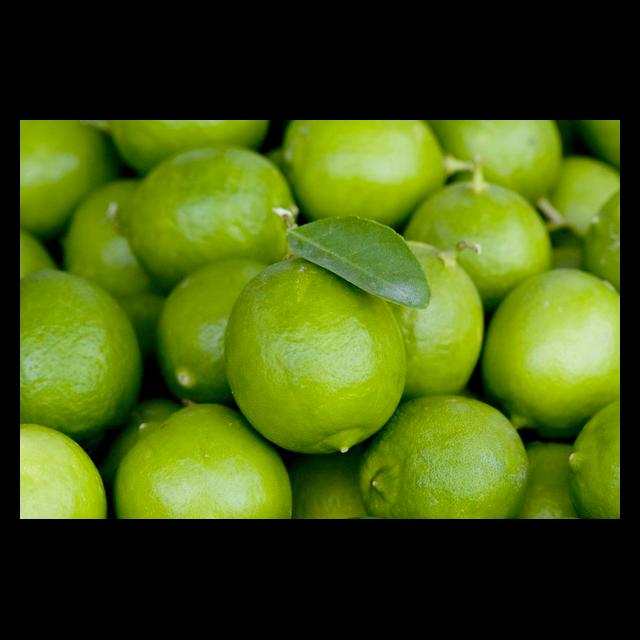lime: (225, 258, 409, 456), (130, 150, 295, 292), (481, 270, 620, 430), (356, 398, 530, 520), (20, 270, 142, 442), (115, 410, 293, 520), (67, 180, 166, 376), (283, 120, 447, 232), (405, 182, 553, 304), (157, 258, 270, 408), (400, 240, 486, 400), (20, 120, 118, 232), (20, 120, 109, 240), (20, 426, 108, 520), (574, 402, 620, 520)
